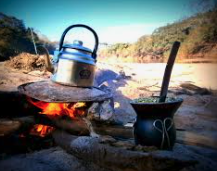calabaza: (128, 93, 186, 149)
mate: (127, 37, 188, 149)
